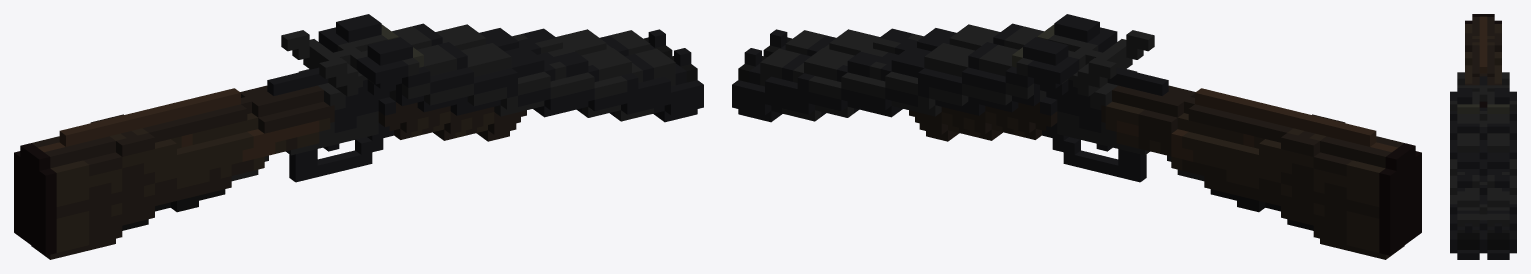
Rendered from SSG-5-state1.obj.
The picture shows the model from 3 angles, left to right: view 1: azimuth 30°, elevation 25°; view 2: azimuth 150°, elevation 25°; view 3: azimuth 270°, elevation 25°; orthographic projection. The views are drawn at different scales.
Parts seen in each view (by area): view 1: state1; view 2: state1; view 3: state1.
Part boxes in pixels (x1,y1,x2,y2): state1: (14,14,703,259); state1: (732,14,1421,259); state1: (1450,14,1516,259).
Bounding box in the file's own units: 5.9 × 1.2 × 0.9.
Materials: 1 (1 with a texture image).
